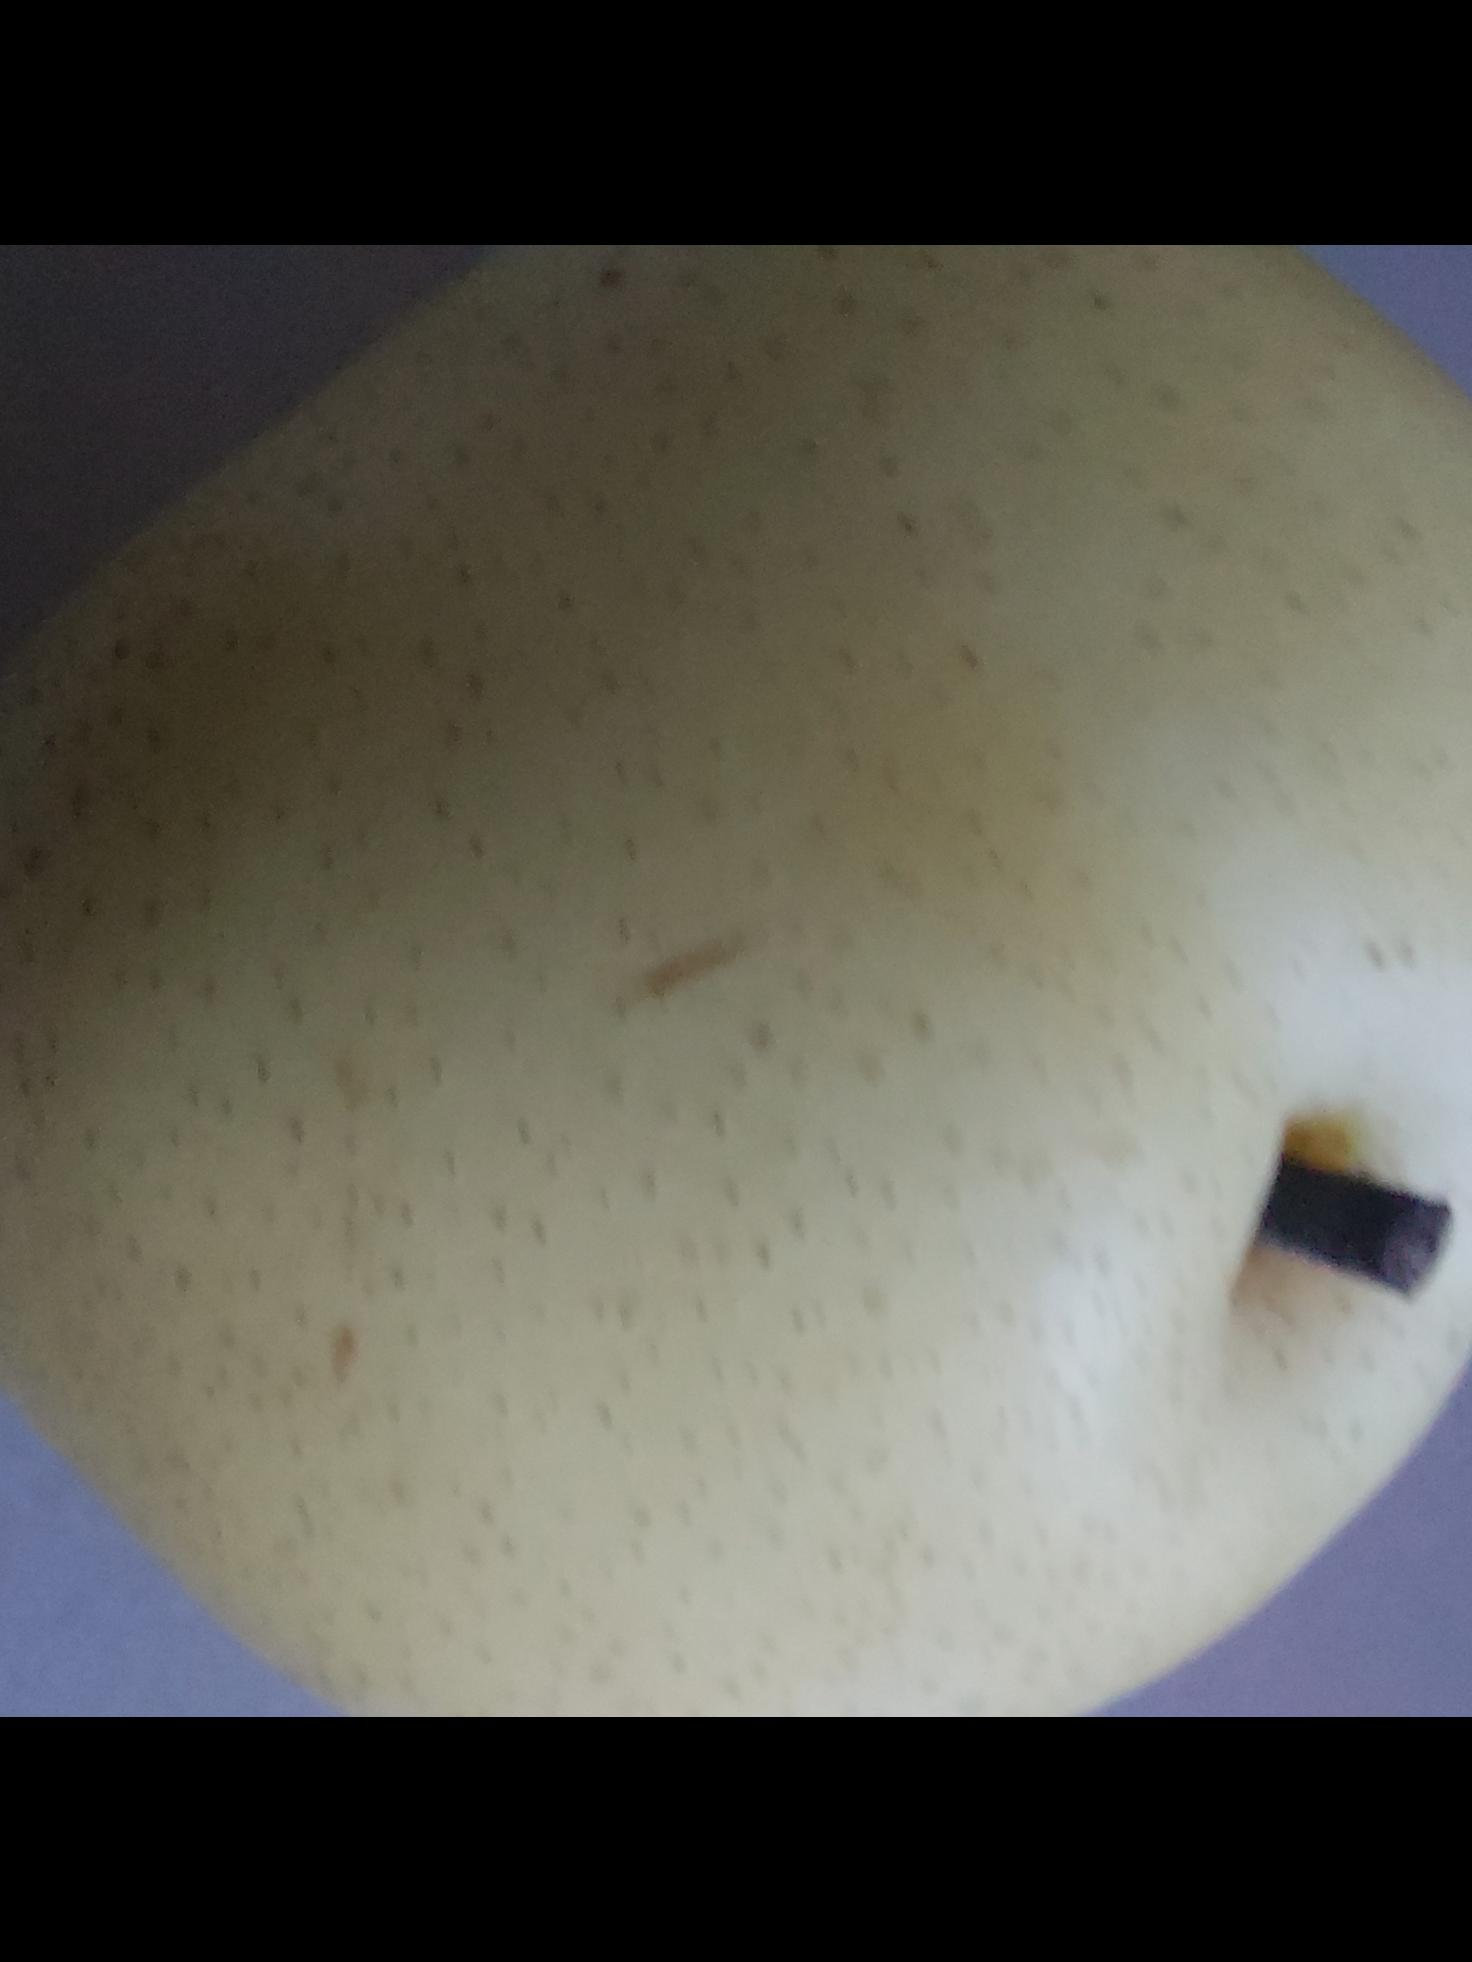Good Pear: (0, 246, 1472, 1718)
